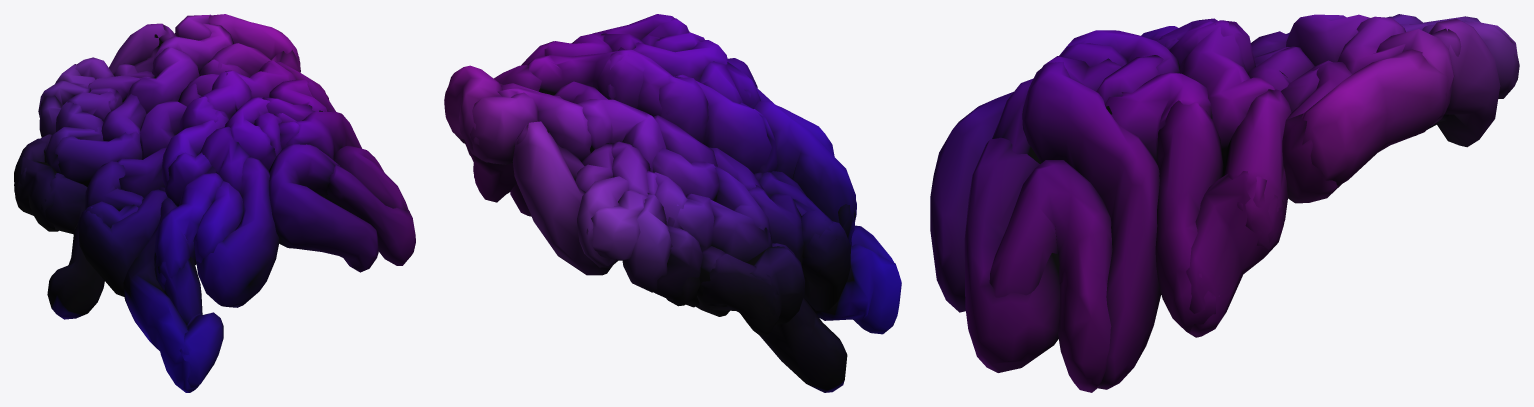
Rendered from zeometry-organic-forms-coiled-blob_v1.glb.
3 renders of one model, left to right at view 1: azimuth 30°, elevation 25°; view 2: azimuth 150°, elevation 25°; view 3: azimuth 270°, elevation 25°, orthographic. The views are drawn at different scales.
Visible parts, largest first — view 1: Coiled Blob; view 2: Coiled Blob; view 3: Coiled Blob.
Boxes of the visible parts, x1,y1,x2,y2 form: Coiled Blob: [14, 14, 415, 392]; Coiled Blob: [444, 14, 901, 392]; Coiled Blob: [930, 14, 1519, 392].
Bounding box in the file's own units: 0.4688 × 0.3665 × 0.5.
